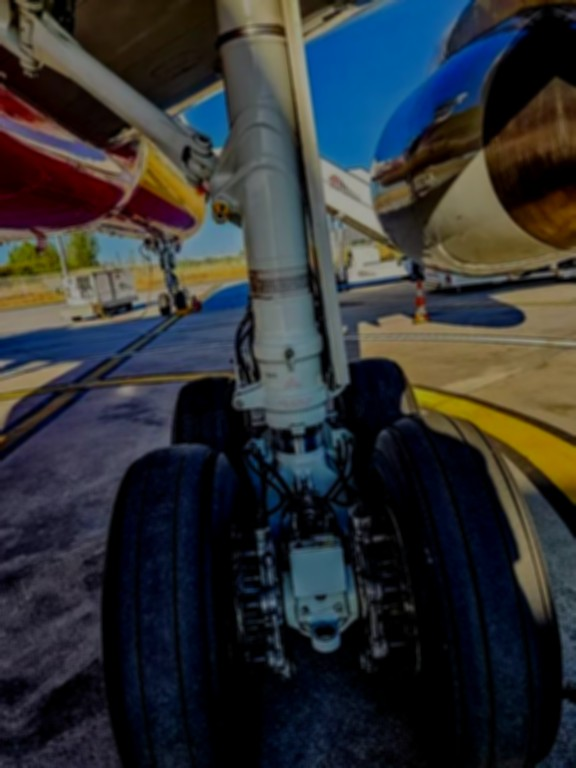chock: (176, 306, 191, 319)
wheel: (358, 400, 574, 768), (77, 438, 283, 768), (162, 371, 260, 525), (336, 352, 426, 492), (158, 292, 173, 316), (174, 290, 188, 310)
